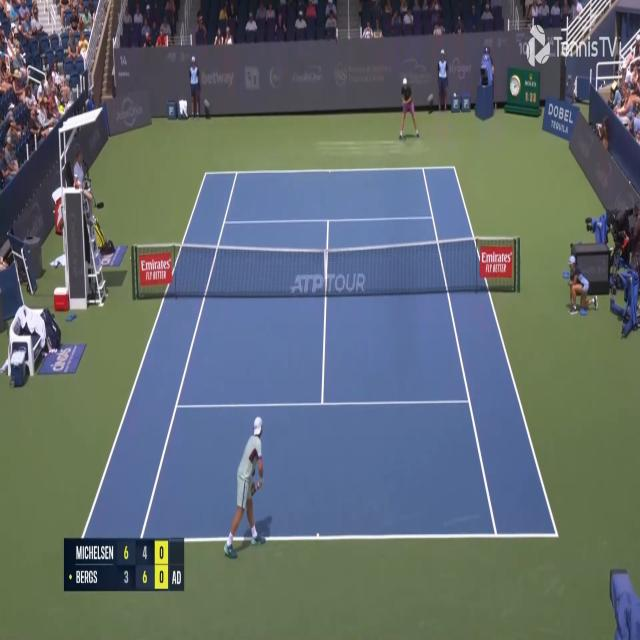tennis-player: (222, 413, 272, 561), (398, 76, 420, 141)
